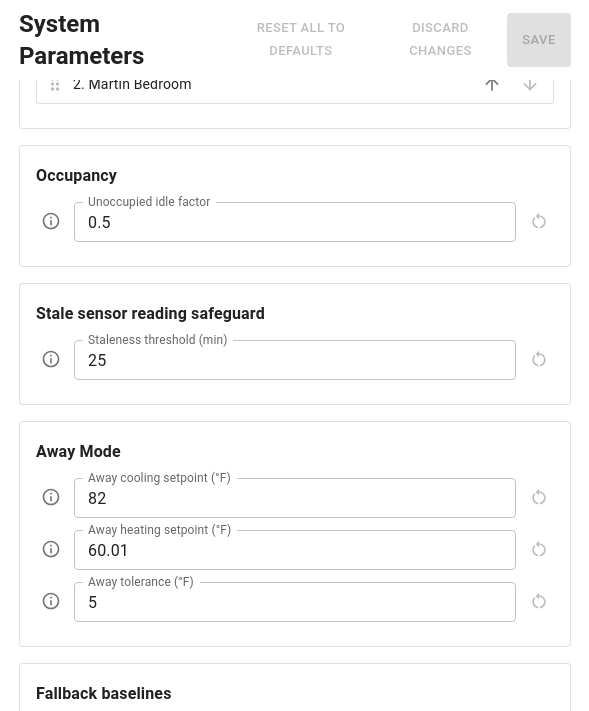
Test: SystemParametersPage › shows the server's error message on a failed save
This screenshot has width=589, height=711.
(page scrolled)
Step 1. Replace the text in the number field labelled "Staleness threshold (min)" with "20" → [295, 360], box [74,340,516,380]
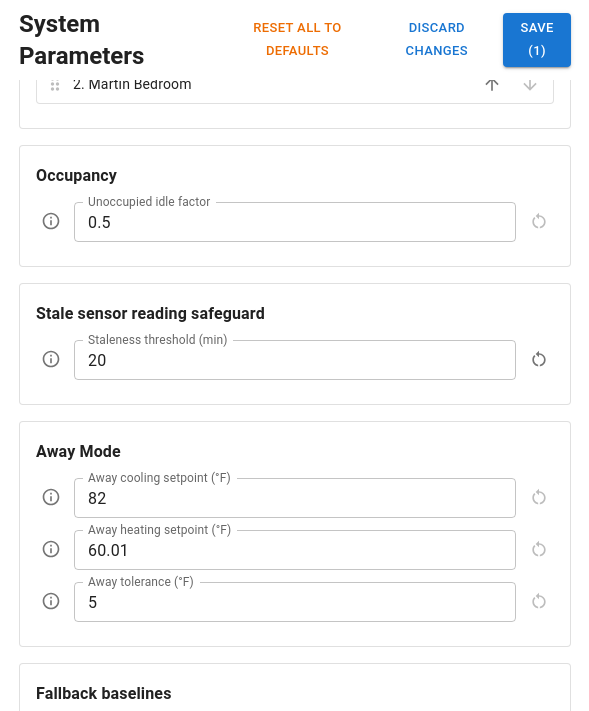
Step 2. Click the button "Save (1)" → [537, 40], box [503,13,571,67]
(page scrolled)
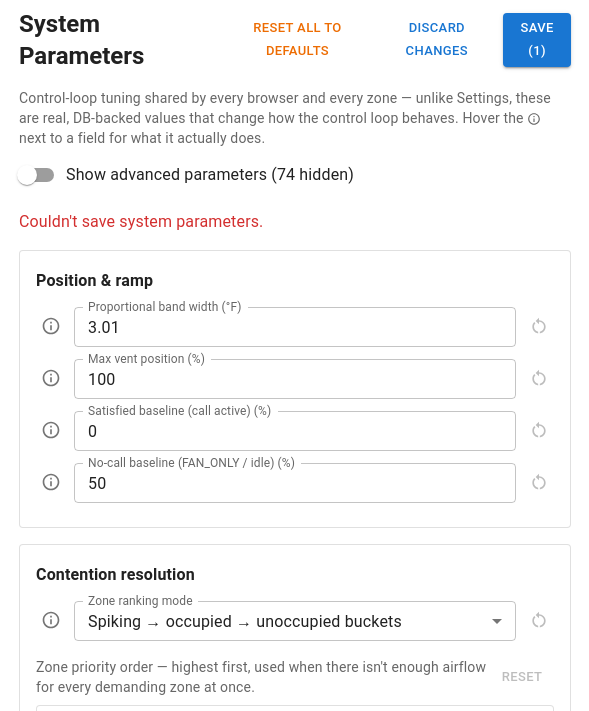
Check: the text "Couldn't save system parameters." is shown, box [19,212,264,231]
